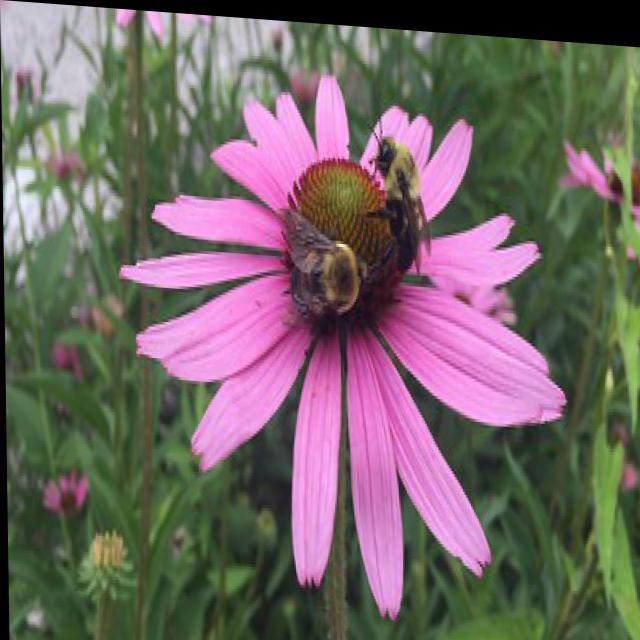Abeille: (360, 108, 441, 279)
